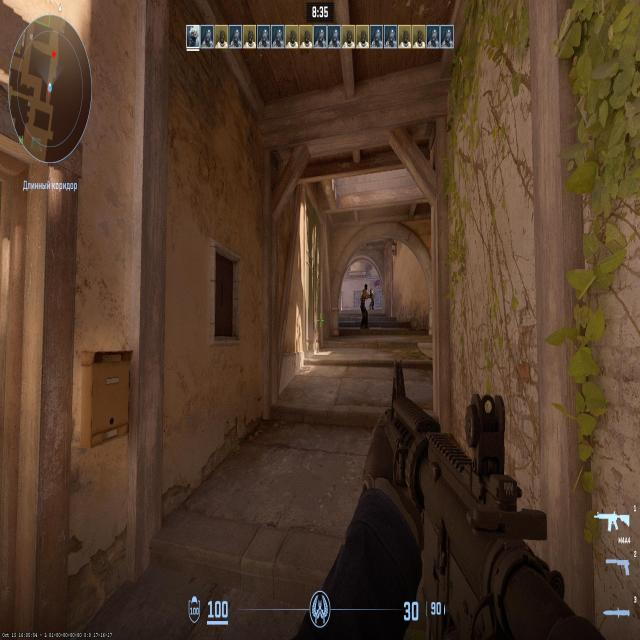CT: (371, 290, 374, 310)
CT_heat: (372, 292, 373, 294)
T: (363, 282, 367, 329)
T_heat: (364, 285, 366, 289)
